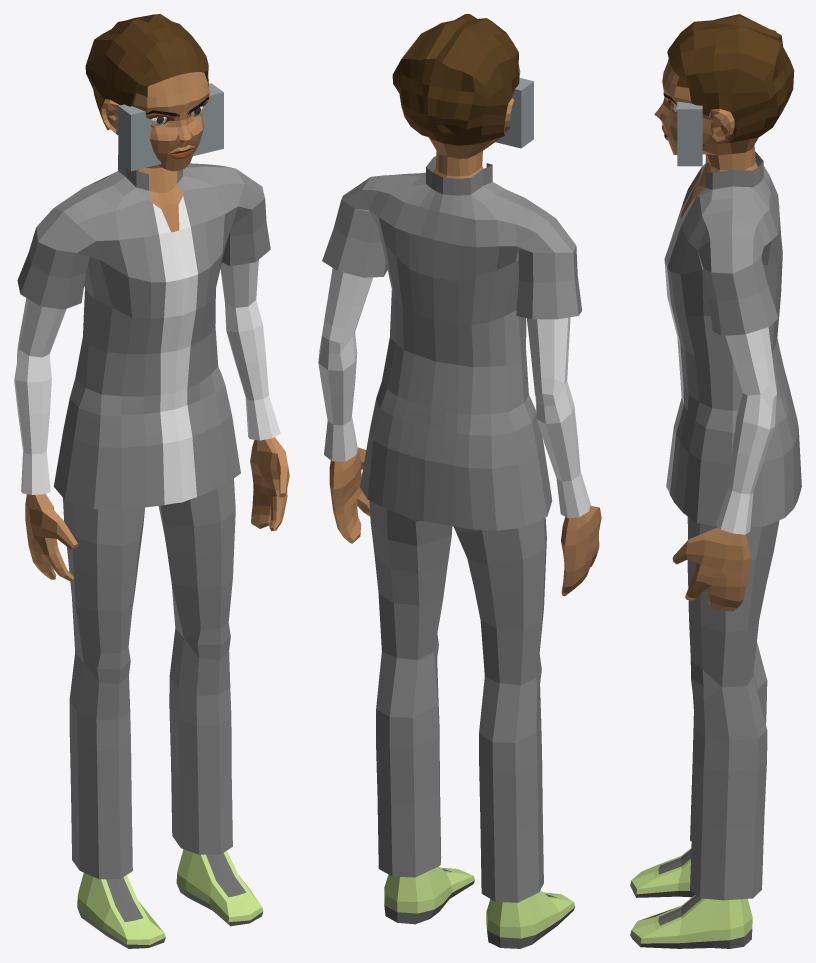
File: StudentMale_Stand_Mask.fbx
3 renders of one model, left to right at view 1: azimuth 30°, elevation 25°; view 2: azimuth 150°, elevation 25°; view 3: azimuth 270°, elevation 25°, orthographic. The views are drawn at different scales.
Parts seen in each view (by area): view 1: StudentMale_Stand_Mask; view 2: StudentMale_Stand_Mask; view 3: StudentMale_Stand_Mask.
Boxes of the visible parts, <box> form: StudentMale_Stand_Mask: <box>14,14,289,948</box>; StudentMale_Stand_Mask: <box>318,14,601,948</box>; StudentMale_Stand_Mask: <box>630,14,801,948</box>.
Bounding box in the file's own units: 0.2614 × 0.8584 × 0.1494.
